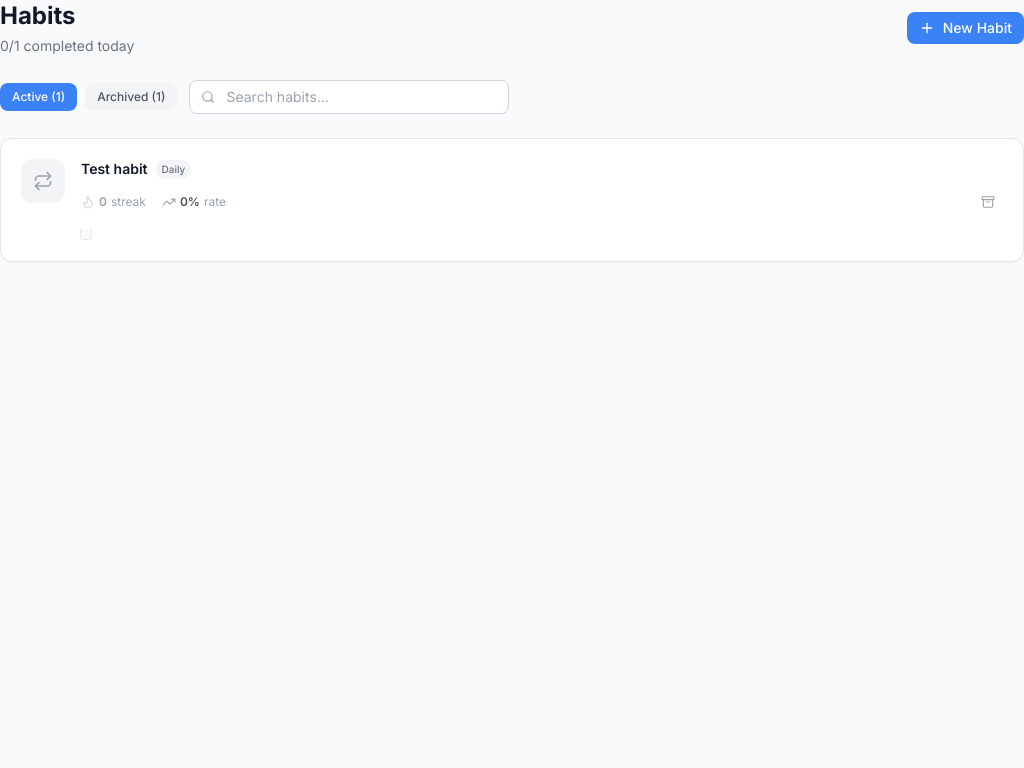
Test: Habits page › opens the delete confirmation modal for an archived habit
Expected: the heading "Test habit" is shown, left=81, top=159, right=148, bottom=179
Click the button "Archived (1)" at (131, 97), box left=85, top=83, right=178, bottom=111
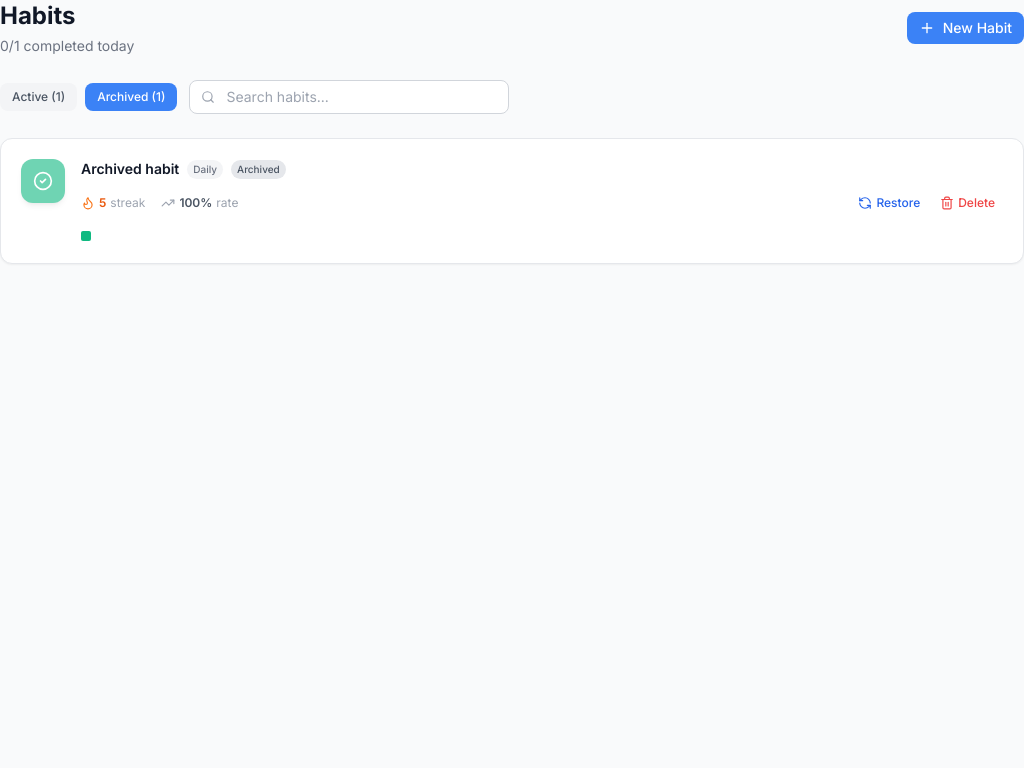
Now the heading "Archived habit" is shown, box left=81, top=159, right=179, bottom=179
Click the button "Delete" at (968, 203), box left=932, top=187, right=1003, bottom=219
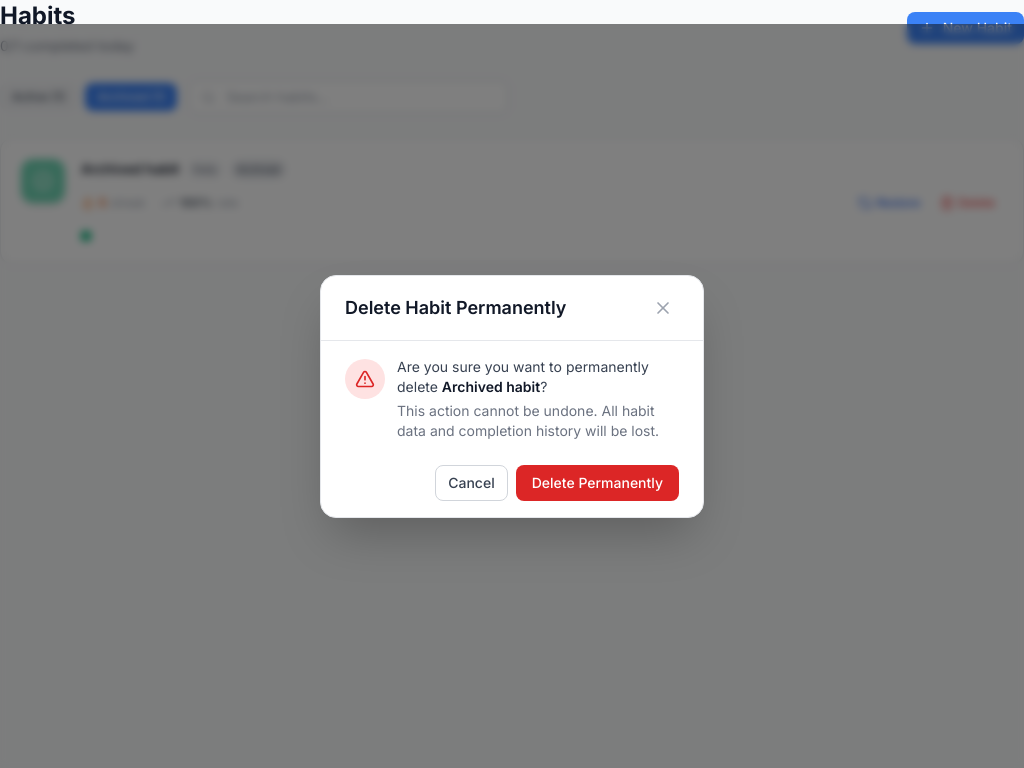
Now the text "Are you sure you want to permanently delete Archived habit?" is shown, box left=397, top=356, right=679, bottom=396
Now the text "cannot be undone" is shown, box left=397, top=402, right=659, bottom=438
